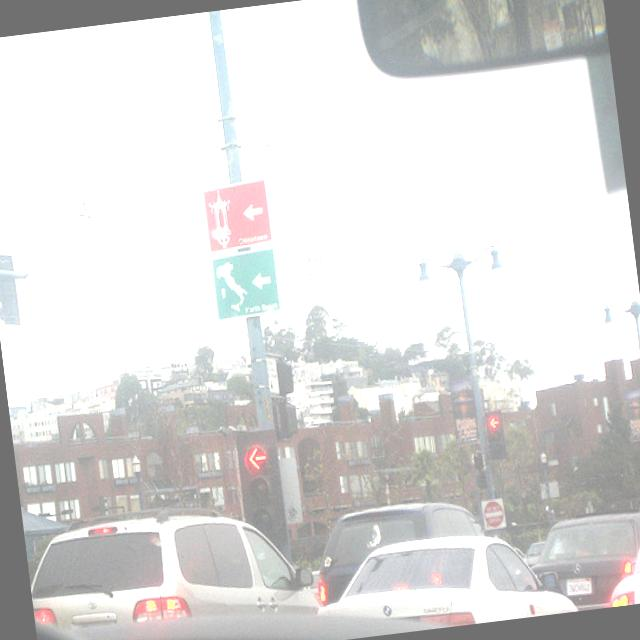Vehicle: (29, 515, 581, 640), (24, 500, 298, 638), (316, 524, 588, 640), (309, 498, 492, 604), (524, 504, 640, 616), (589, 515, 640, 608), (521, 541, 548, 566)
